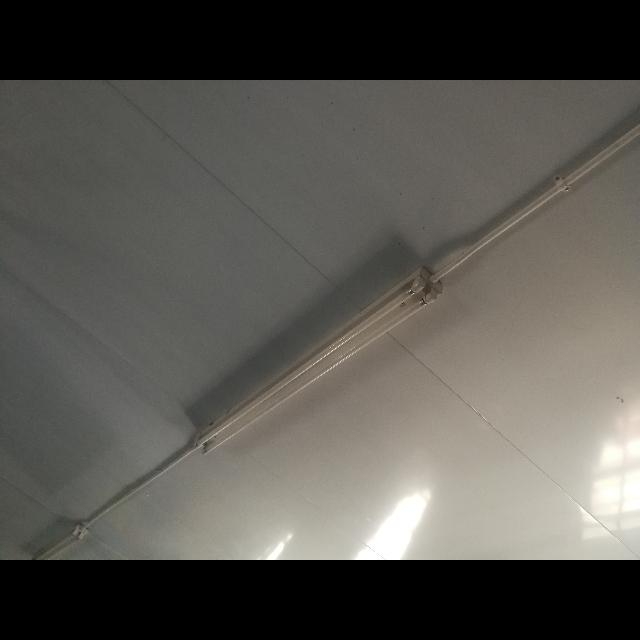Straight-Tube-Fluorescent-Lamp: (187, 263, 456, 465)
